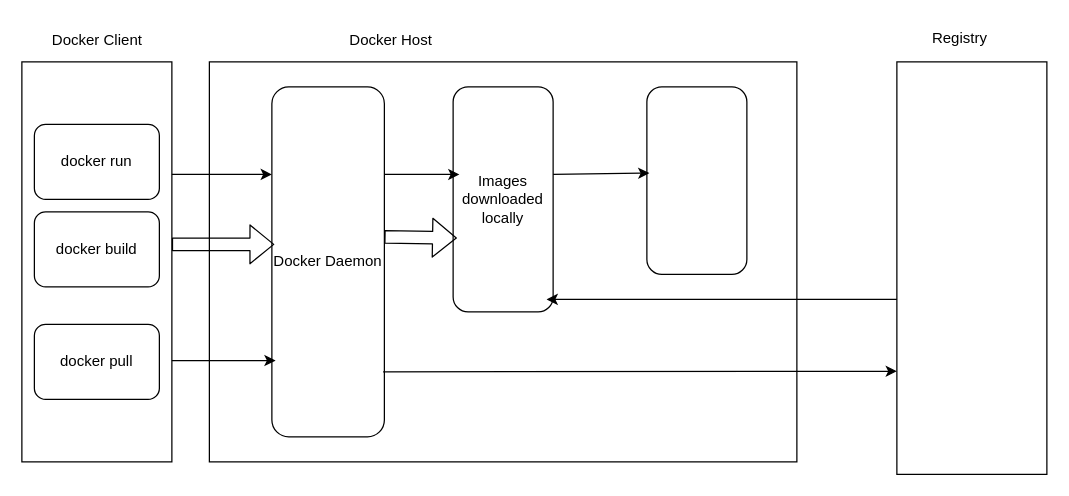
Image size: 1069x496. Some labels were removed from this diagram. The shapes that lost their labels are listed below. From the top down, each one's centre as x and y in pixels, then its label:
pixel 696 180: Runnning Containers
pixel 971 267: Images pushed to registry
